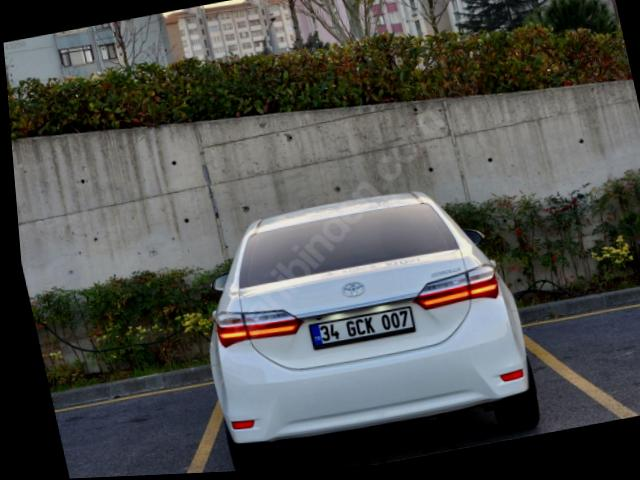plaka: (309, 306, 415, 349)
